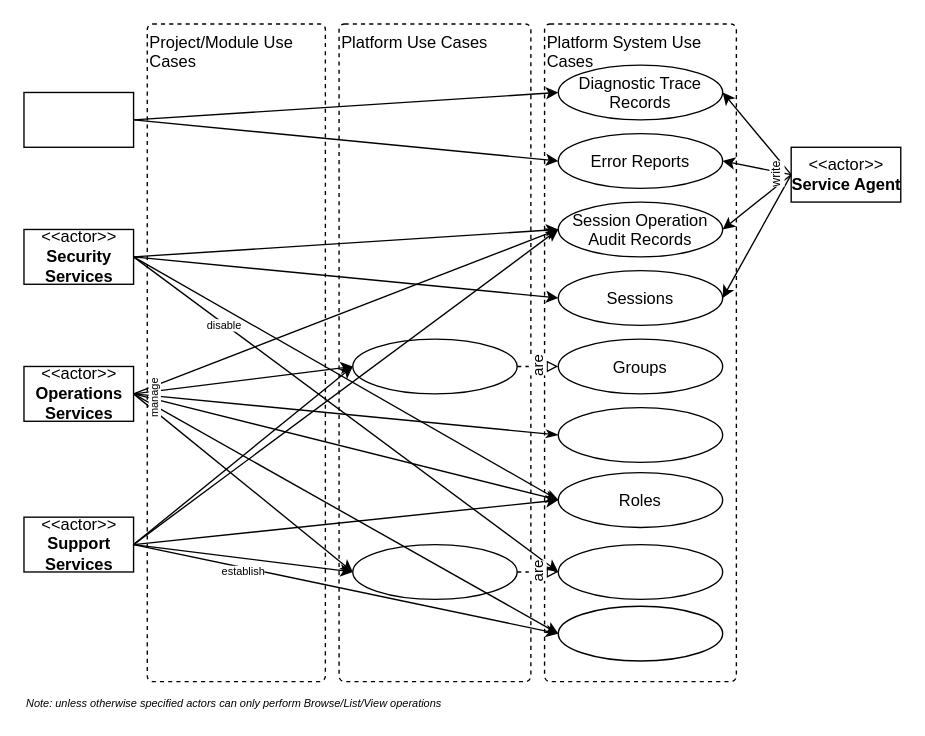
Some shapes in this 925 by 736 pixel diagram are drawn without their labels. The box of each missing label's shape, as (x1, y1, x2, y2) in pixels:
<<actor>> Maintenance Services: (23, 91, 134, 147)
Group Role Invitations: (557, 406, 723, 462)
Schools, Classes, Courses, Adhoc: (351, 338, 517, 394)
Teachers, Learners: (351, 543, 517, 599)
User Digital Identities: (557, 605, 723, 661)
Users: (557, 543, 723, 599)
